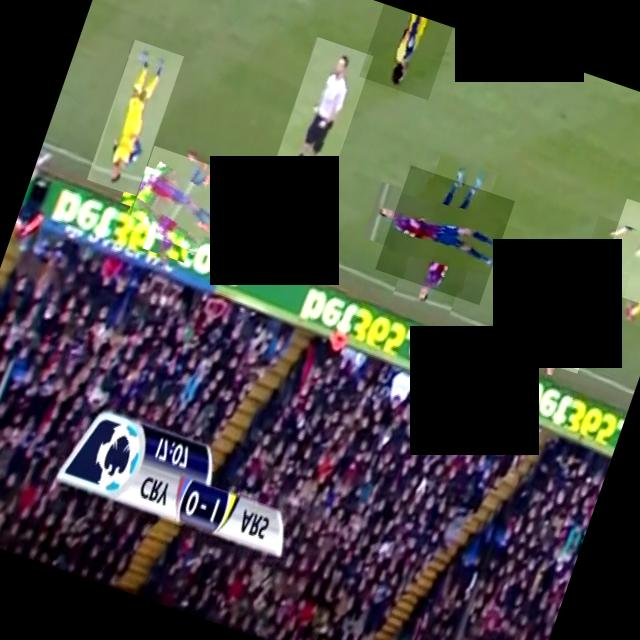referee: (263, 36, 373, 214)
soccer-player: (374, 165, 514, 305), (86, 39, 184, 196), (520, 238, 616, 374), (125, 146, 237, 256), (358, 3, 452, 100), (595, 198, 640, 311)
